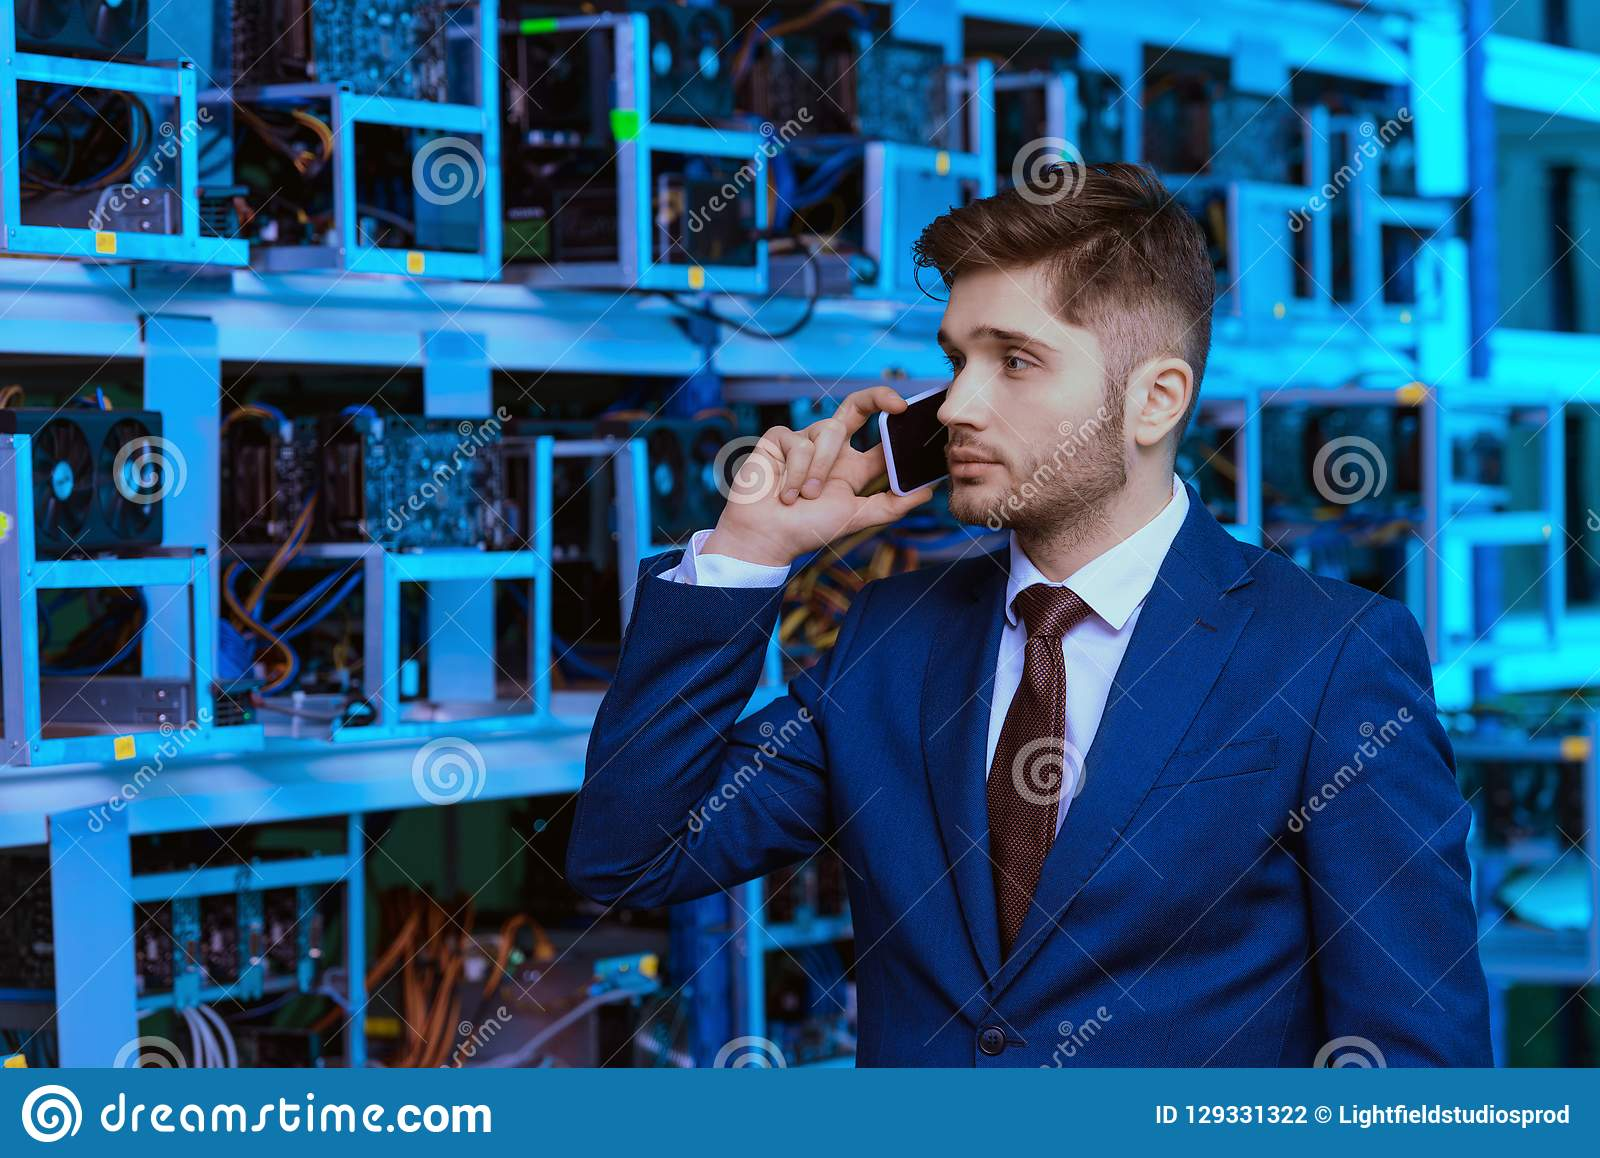phone: (873, 386, 952, 503)
talk: (713, 308, 1087, 567)
